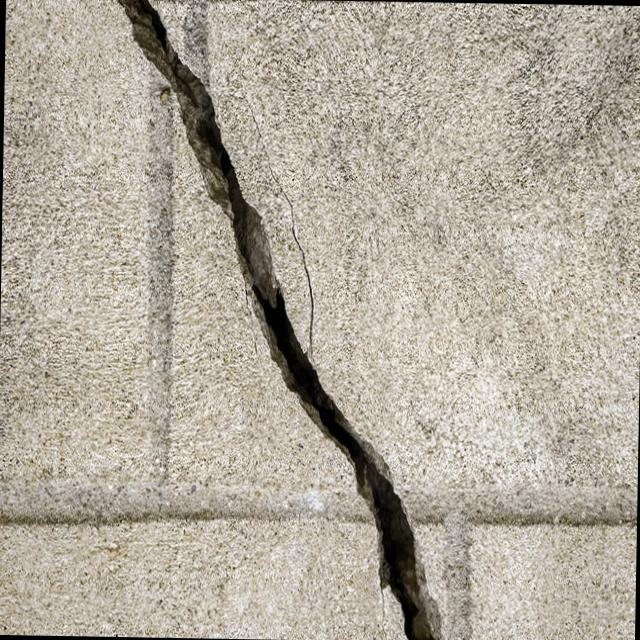crack: (105, 0, 452, 640)
